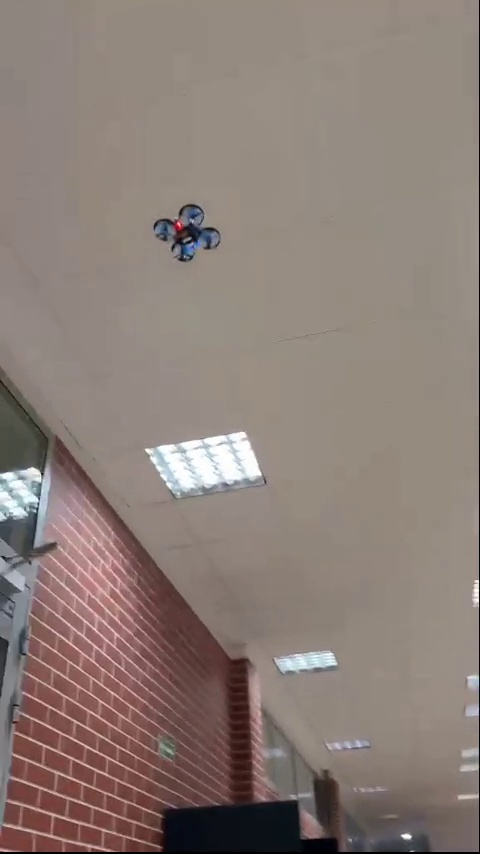drone: (152, 202, 222, 259)
